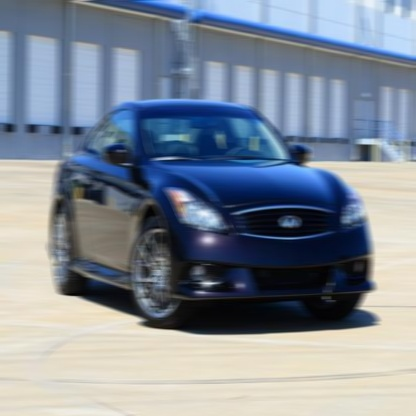Vehicle: (47, 96, 376, 328)
